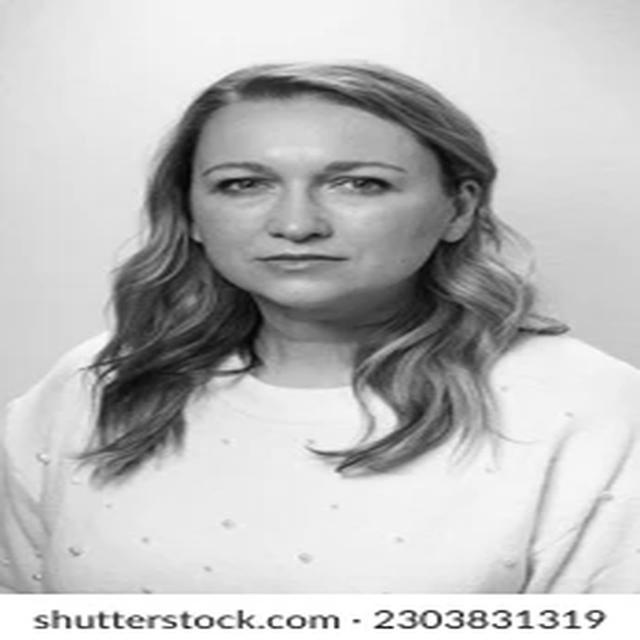Neutral: (192, 105, 443, 305)
